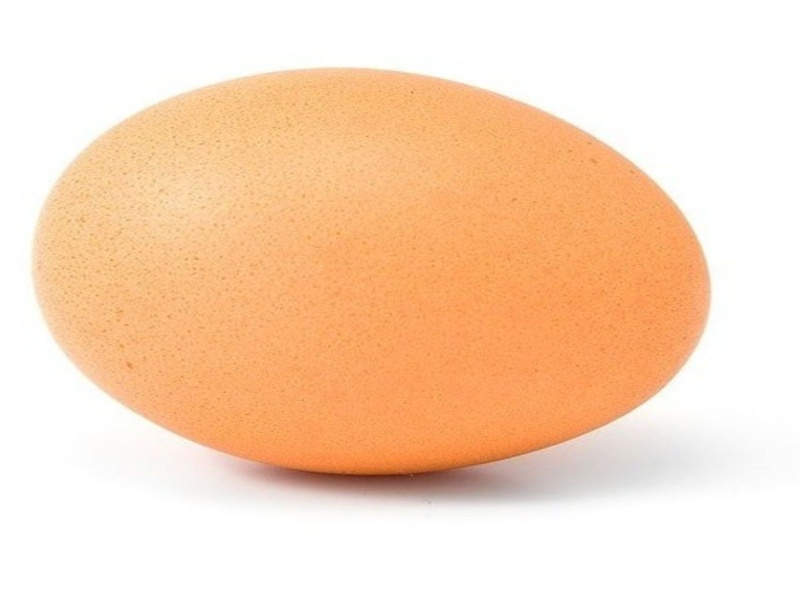Huevo: (32, 68, 712, 474)
